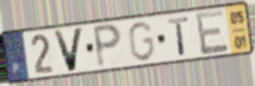2: (30, 33, 54, 75)
E: (193, 8, 231, 57)
G: (126, 20, 156, 63)
P: (91, 22, 124, 70)
T: (166, 15, 191, 58)
V: (51, 26, 86, 74)
